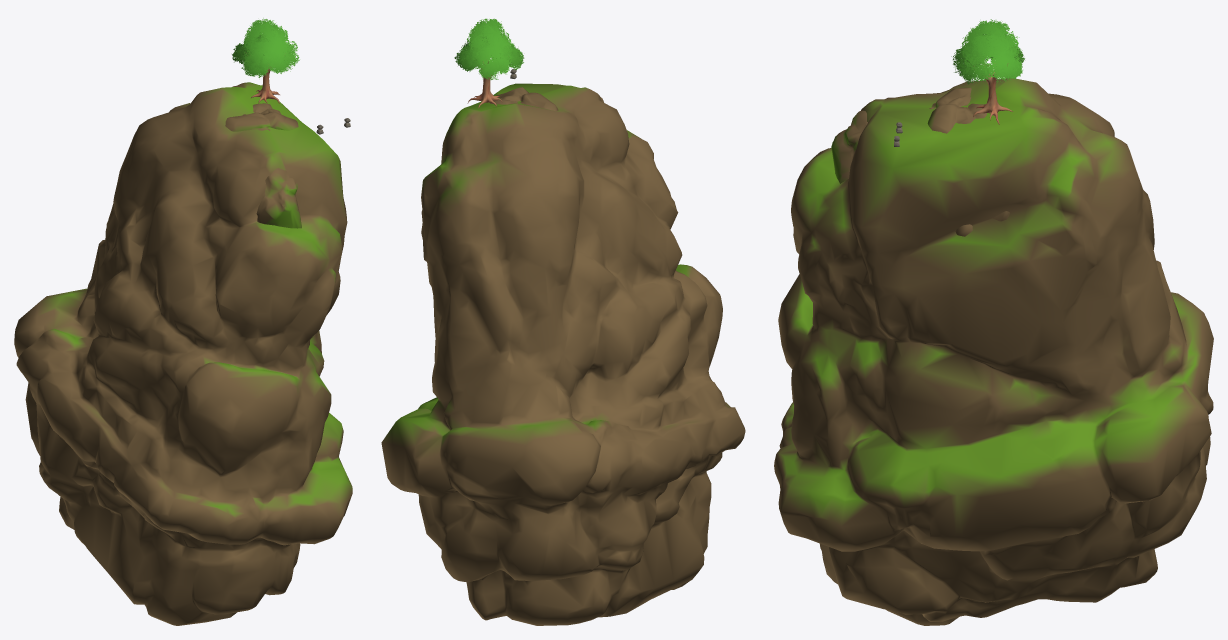
The model's file is cell_x1_z-4_render.gltf.
3 renders of one model, left to right at view 1: azimuth 30°, elevation 25°; view 2: azimuth 150°, elevation 25°; view 3: azimuth 270°, elevation 25°, orthographic. The views are drawn at different scales.
Parts seen in each view (by area): view 1: SM_ENV_cliff_castle_02_LOD0.007, SM_ENV_cliff_castle_02_LOD0.008, SM_ENV_tree_castle_01_LOD0.010; view 2: SM_ENV_cliff_castle_02_LOD0.007, SM_ENV_tree_castle_01_LOD0.010, SM_ENV_cliff_castle_02_LOD0.008; view 3: SM_ENV_cliff_castle_02_LOD0.007, SM_ENV_tree_castle_01_LOD0.010, SM_ENV_cliff_castle_02_LOD0.008.
Part boxes in pixels (x1,y1,x2,y2): SM_ENV_cliff_castle_02_LOD0.007: (14, 82, 352, 625); SM_ENV_cliff_castle_02_LOD0.008: (225, 103, 301, 228); SM_ENV_tree_castle_01_LOD0.010: (232, 18, 299, 103); SM_ENV_cliff_castle_02_LOD0.007: (381, 83, 745, 625); SM_ENV_tree_castle_01_LOD0.010: (454, 18, 524, 108); SM_ENV_cliff_castle_02_LOD0.008: (490, 87, 603, 111); SM_ENV_cliff_castle_02_LOD0.007: (774, 78, 1213, 625); SM_ENV_tree_castle_01_LOD0.010: (951, 19, 1024, 124); SM_ENV_cliff_castle_02_LOD0.008: (831, 87, 1009, 236).
Bounding box in the file's own units: 43.49 × 97.24 × 59.72.
Materials: 4 (3 with a texture image).
